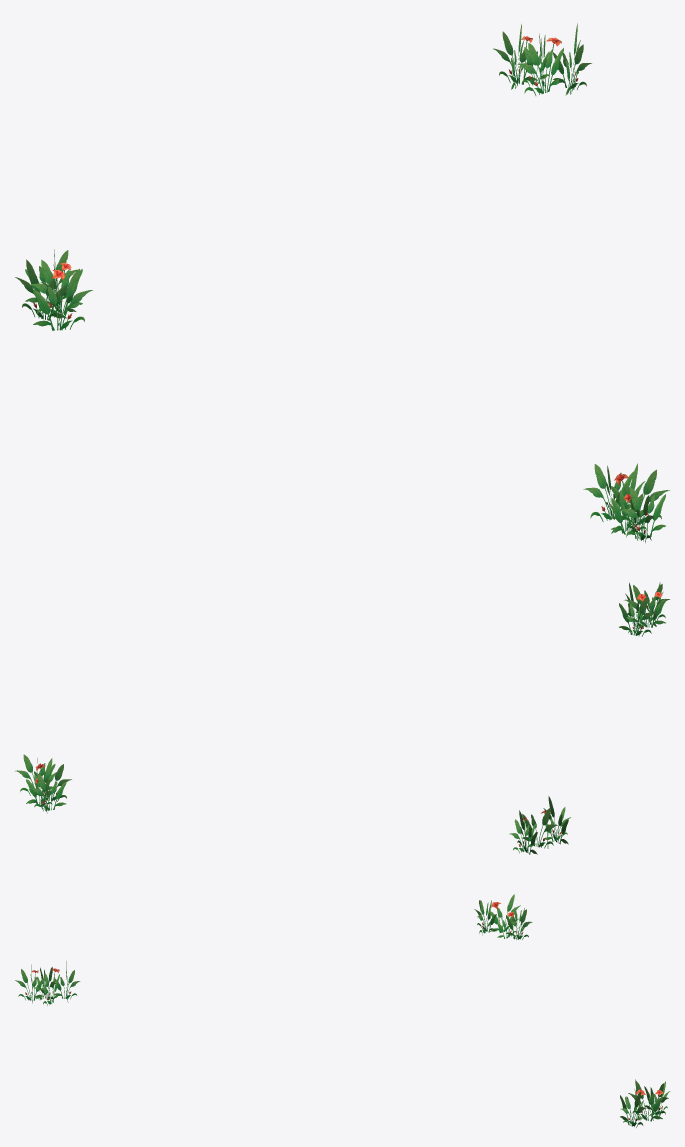
Rendered from area_08_13.fbx.
3 views of the same model, one above another, from view 1: azimuth 30°, elevation 25°; view 2: azimuth 150°, elevation 25°; view 3: azimuth 270°, elevation 25° (orthographic). The views are drawn at different scales.
Parts seen in each view (by area): view 1: area_08_13; view 2: area_08_13; view 3: area_08_13.
Part boxes in pixels (x1=…): area_08_13: x1=15, y1=23, x2=669, y2=542; area_08_13: x1=15, y1=582, x2=669, y2=854; area_08_13: x1=15, y1=894, x2=670, y2=1127.
Bounding box in the file's own units: 17.7 × 1.55 × 23.8.
